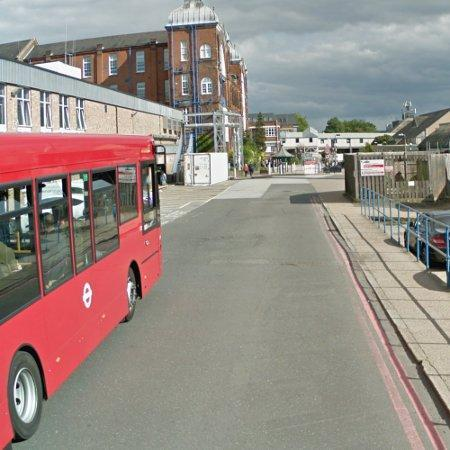buses: (0, 134, 161, 450)
